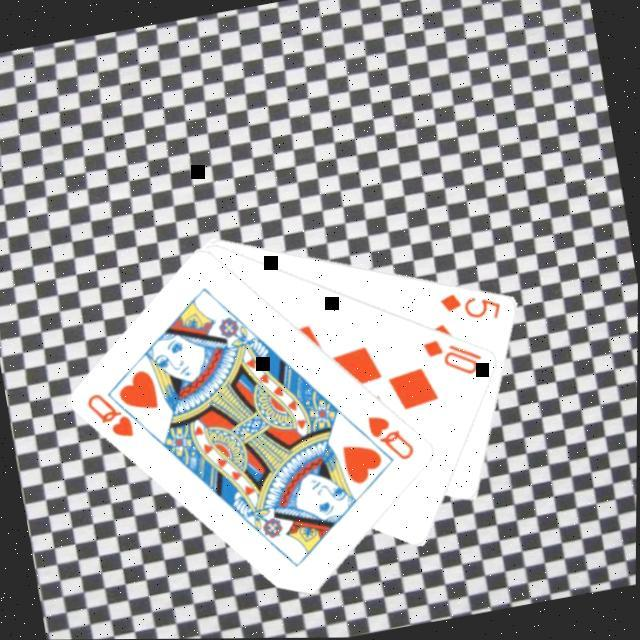10D: (420, 326, 489, 384)
5D: (437, 279, 508, 330)
QH: (82, 379, 155, 445), (364, 404, 421, 467)
